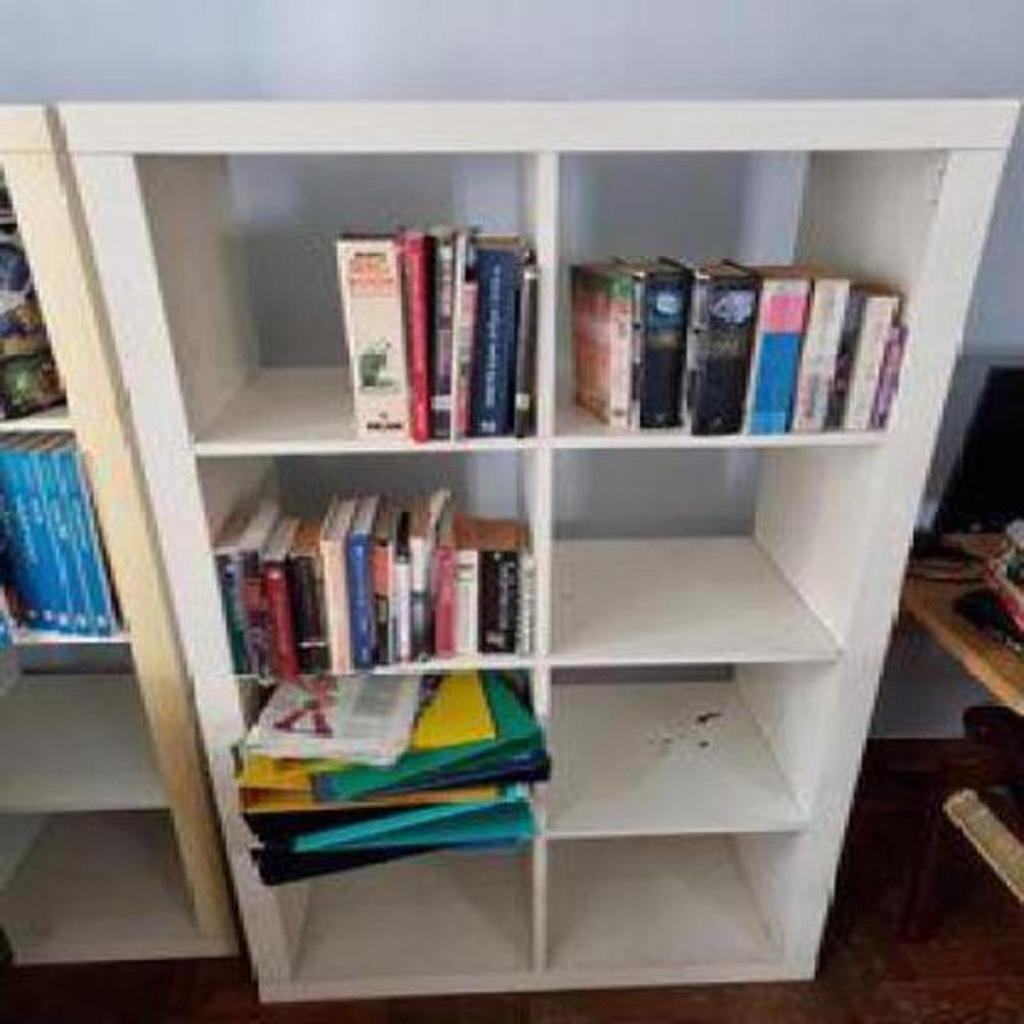lamp: (47, 89, 1019, 1011)
